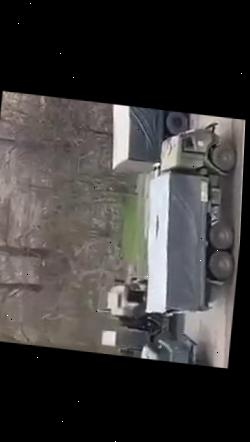truck: (135, 111, 246, 325), (88, 267, 177, 362), (101, 102, 187, 184), (132, 326, 217, 367)
